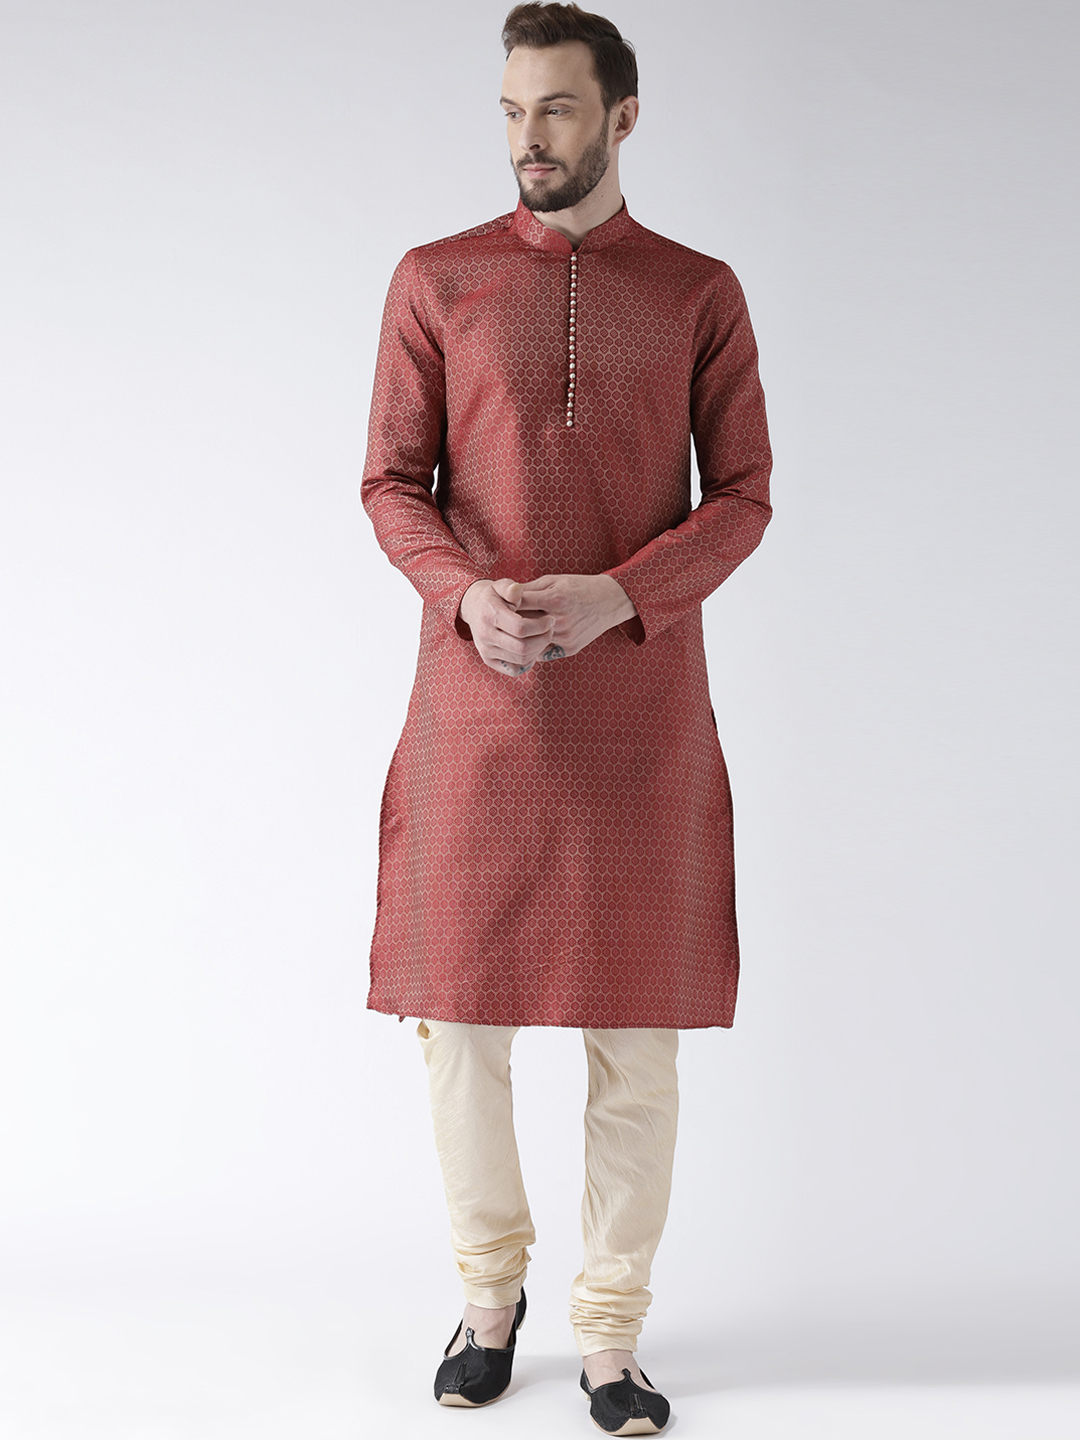NOTSAFE: (405, 1, 707, 1013)
